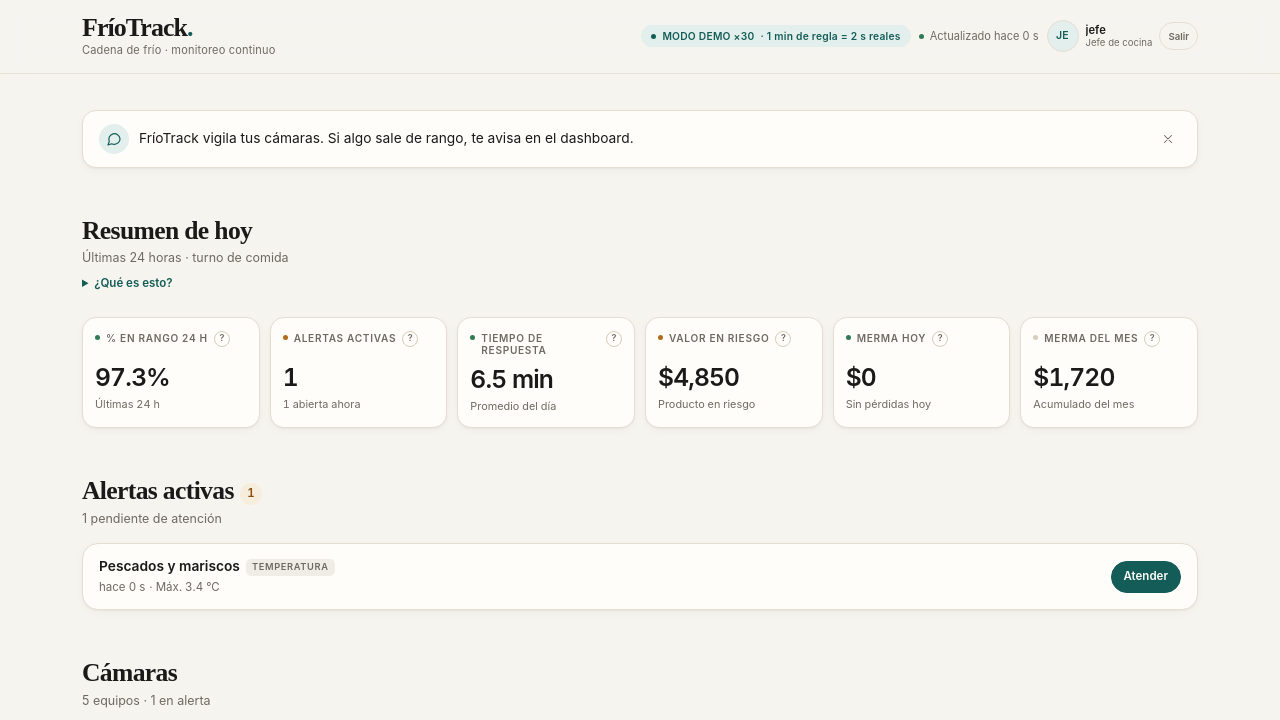
vista general › atiende desde la sección y marca la alerta como atendida
Click the button "Atender": x=1146, y=577 x1=1110 y1=561 x2=1181 y2=593
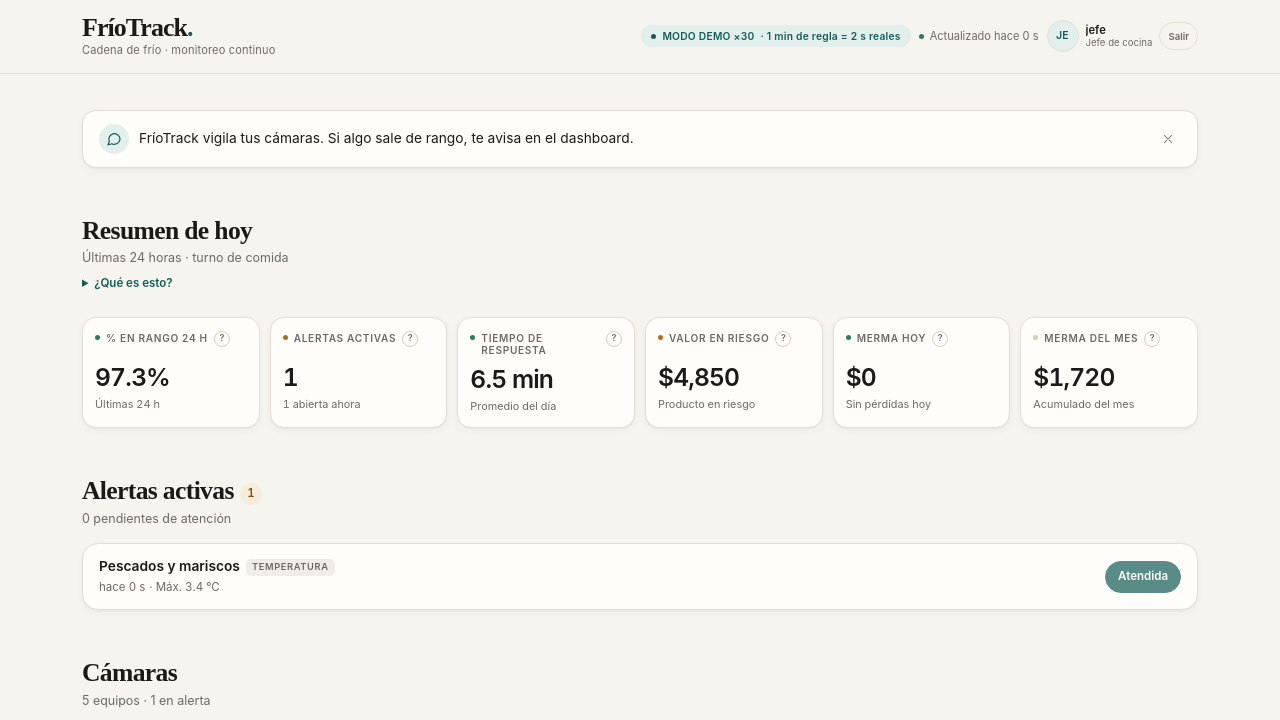
Check: the button "Atendida" is disabled, box x1=1105 y1=561 x2=1181 y2=593
